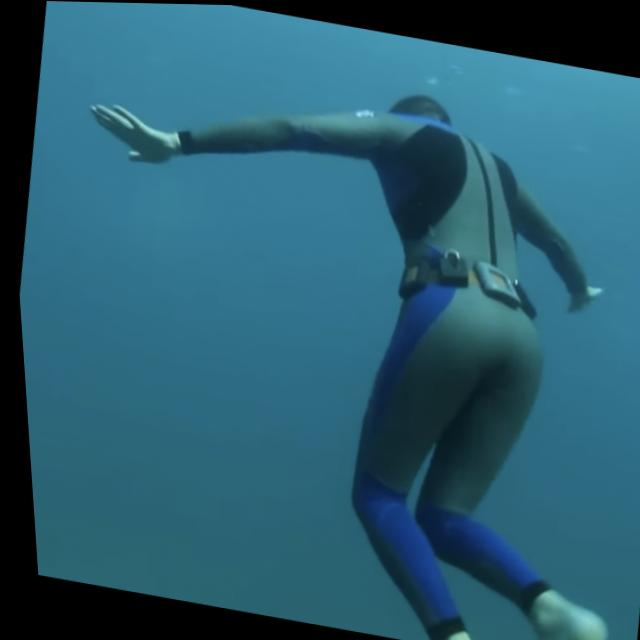human: (6, 25, 640, 640)
